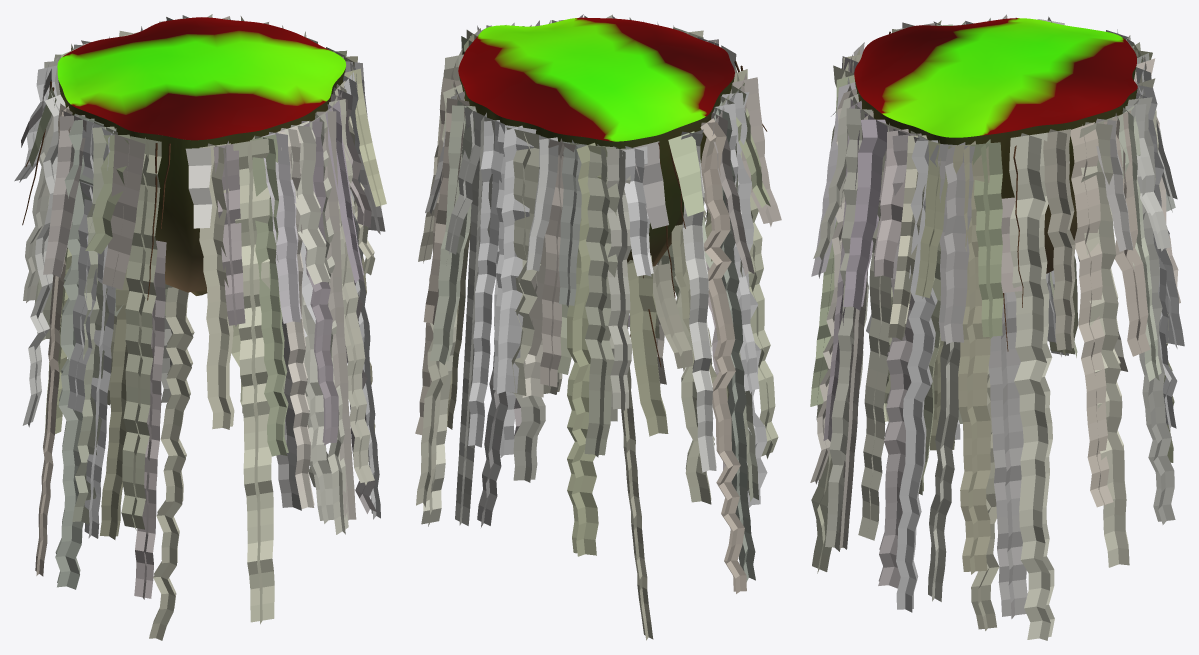
The model's file is SM_H13_Floater01.fbx.
3 renders of one model, left to right at view 1: azimuth 30°, elevation 25°; view 2: azimuth 150°, elevation 25°; view 3: azimuth 270°, elevation 25°, orthographic. The views are drawn at different scales.
Parts seen in each view (by area): view 1: SM_H13_Floater01_Ivy, SM_H13_Floater01; view 2: SM_H13_Floater01_Ivy, SM_H13_Floater01; view 3: SM_H13_Floater01_Ivy, SM_H13_Floater01.
Boxes of the visible parts, x1,y1,x2,y2 form: SM_H13_Floater01_Ivy: (14, 14, 386, 640); SM_H13_Floater01: (57, 17, 346, 295); SM_H13_Floater01_Ivy: (415, 14, 781, 640); SM_H13_Floater01: (458, 17, 734, 266); SM_H13_Floater01_Ivy: (810, 14, 1184, 640); SM_H13_Floater01: (854, 18, 1137, 273).
Size of the model in its own units: 20.42 by 34.17 by 19.52.
